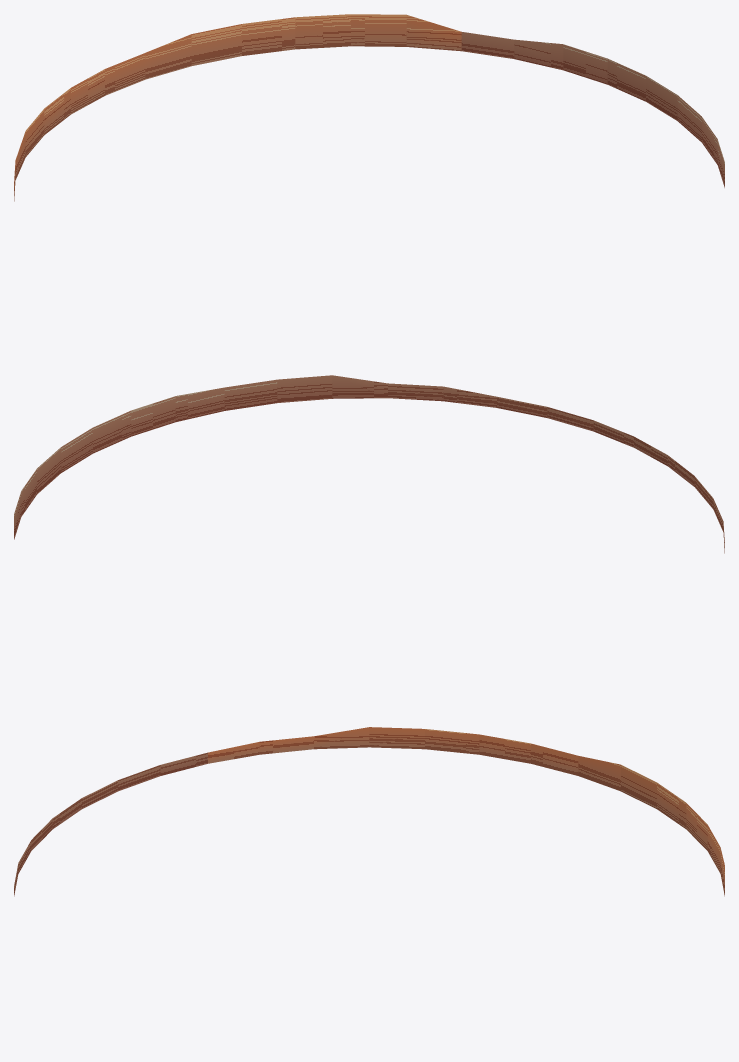
Rendered from wsky.mesas.glb.
3 renders of one model, top to bottom at view 1: azimuth 30°, elevation 25°; view 2: azimuth 150°, elevation 25°; view 3: azimuth 270°, elevation 25°, orthographic.
Parts seen in each view (by area): view 1: kit_shell_mesas; view 2: kit_shell_mesas; view 3: kit_shell_mesas.
Part boxes in pixels (x1,y1,x2,y2): kit_shell_mesas: (14,14,724,201); kit_shell_mesas: (14,375,724,553); kit_shell_mesas: (14,727,724,896).
Bounding box in the file's own units: 320 × 15.96 × 320.
Materials: 1 (1 with a texture image).
